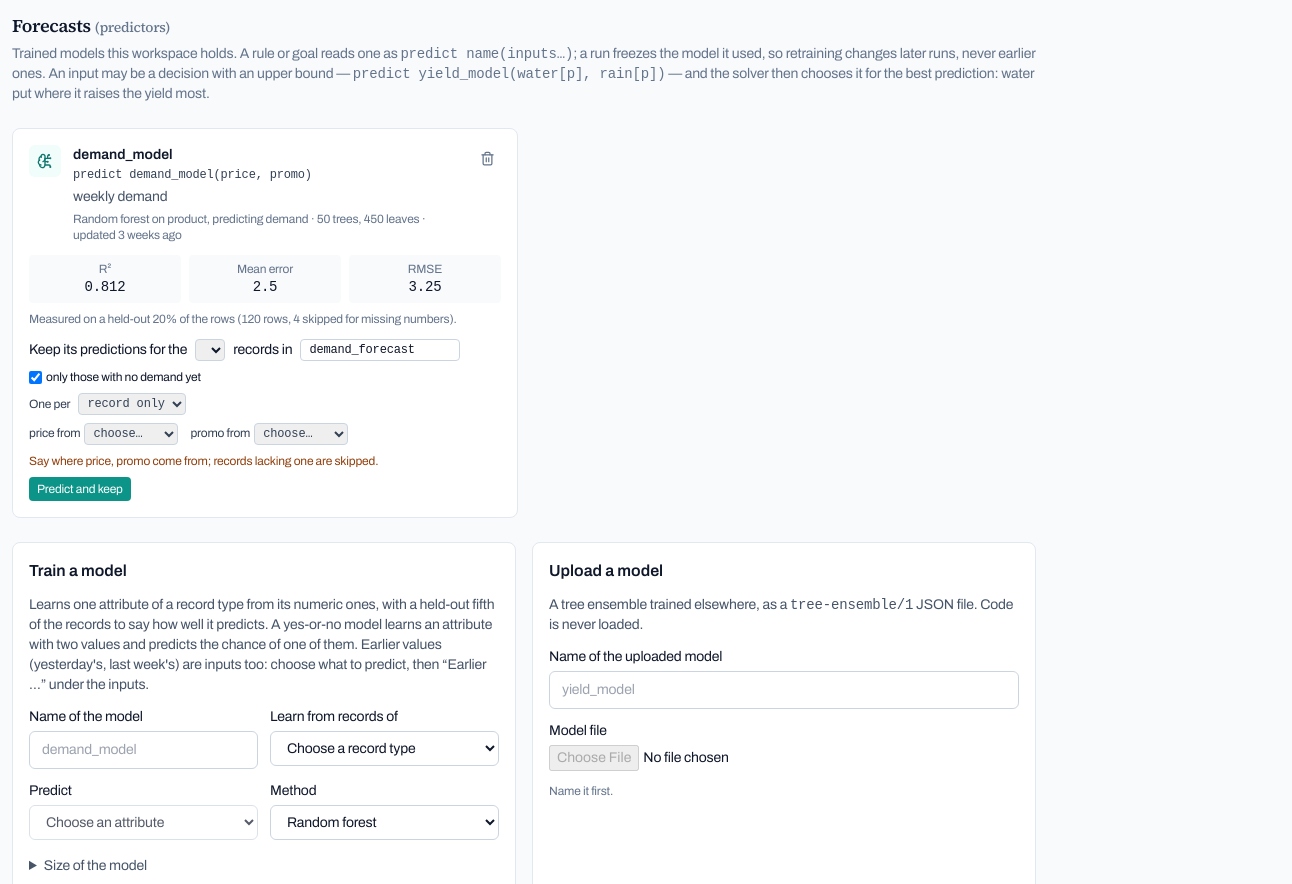
says why a delete was refused, and asks first
The image size is (1292, 884).
Click the button named "Delete demand_model" at [488, 158], box [474, 145, 501, 172]
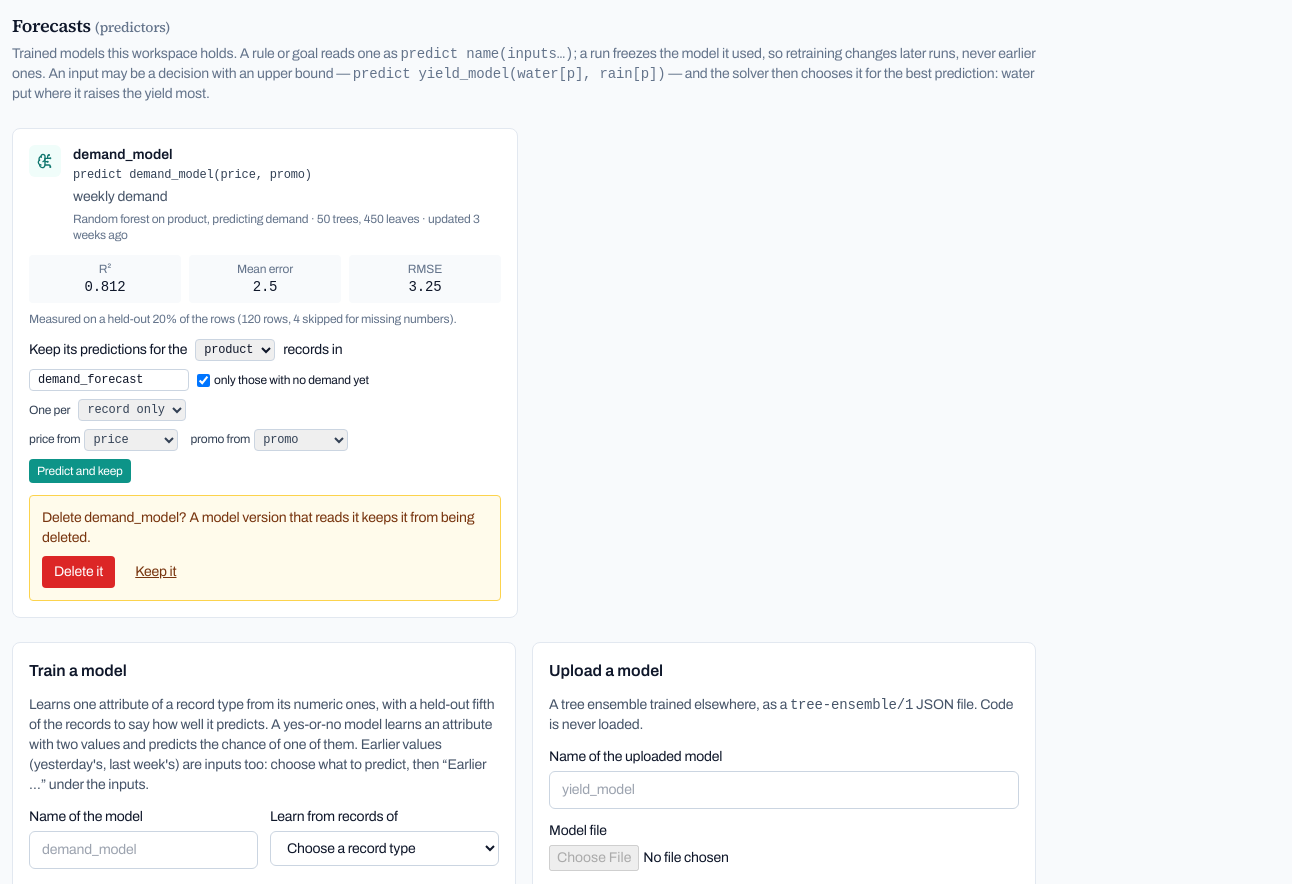
Click the button "Delete it" at [79, 572], box [42, 556, 115, 588]
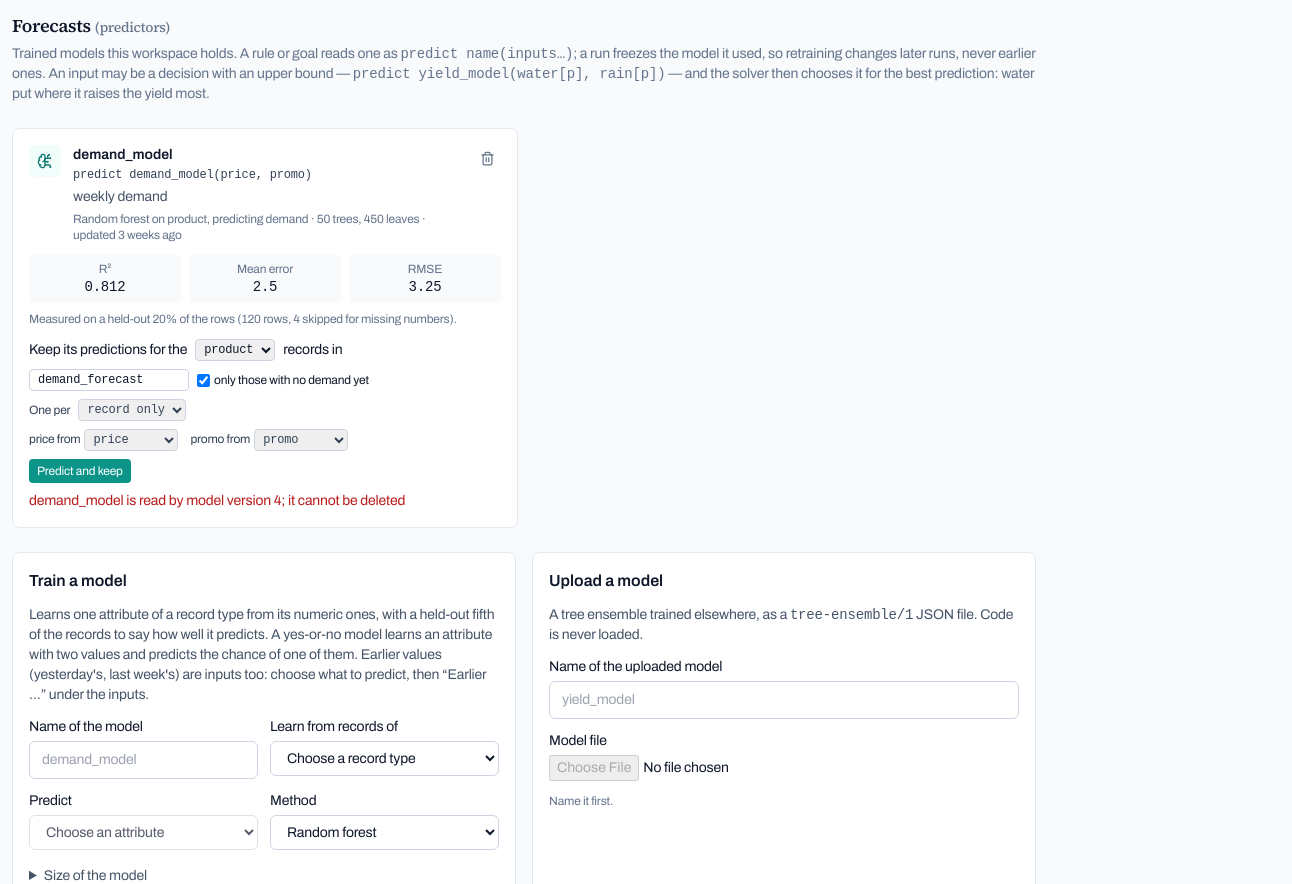
Expected: the message shows "cannot be deleted", [29, 493, 405, 508]
